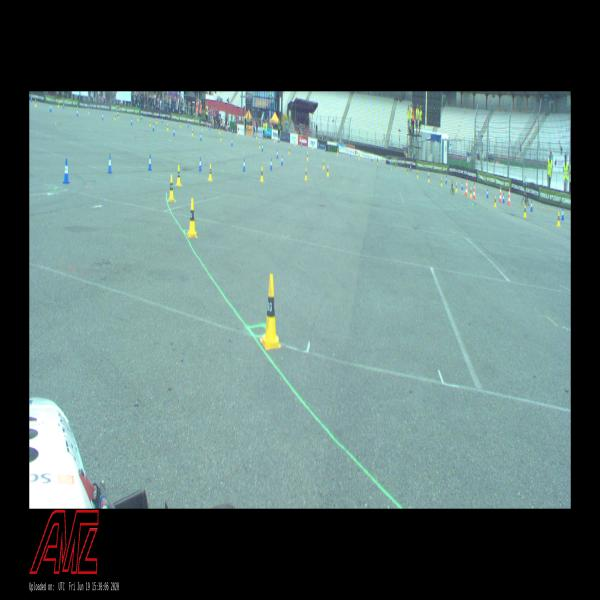blue_cone: (64, 159, 70, 184), (108, 154, 112, 174), (148, 154, 152, 171), (199, 156, 202, 172), (243, 158, 246, 171), (561, 207, 564, 220), (270, 158, 273, 170), (486, 188, 489, 199), (502, 193, 505, 204), (530, 201, 533, 211), (281, 155, 283, 166), (50, 103, 52, 112), (173, 127, 175, 136), (200, 132, 202, 141), (231, 137, 233, 146), (276, 150, 278, 158), (445, 176, 447, 184), (130, 117, 132, 125), (102, 112, 104, 120), (63, 101, 65, 109), (461, 182, 463, 190), (30, 97, 32, 102), (262, 143, 263, 152), (153, 123, 154, 131), (77, 108, 78, 116), (188, 120, 189, 128), (350, 150, 351, 158), (428, 170, 429, 178), (141, 113, 142, 120), (410, 164, 411, 171), (209, 124, 210, 130), (162, 117, 163, 123), (232, 128, 233, 134), (301, 142, 302, 148), (371, 155, 372, 161), (117, 111, 118, 115)
large_orange_cone: (507, 188, 511, 205), (499, 186, 502, 203), (473, 182, 476, 199), (465, 180, 468, 196)
yellow_cone: (261, 274, 281, 348), (188, 197, 198, 238), (168, 174, 174, 202), (176, 165, 182, 187), (208, 163, 213, 181), (260, 166, 264, 182), (556, 211, 560, 227), (523, 203, 527, 218), (326, 164, 329, 177), (322, 159, 325, 170), (469, 187, 472, 198), (494, 195, 496, 207), (305, 168, 307, 180), (455, 182, 457, 193), (440, 178, 442, 186), (220, 133, 222, 141), (167, 123, 169, 131), (358, 152, 360, 160), (35, 99, 37, 106), (114, 113, 116, 120), (156, 117, 158, 124), (88, 107, 90, 114), (201, 125, 203, 131), (180, 122, 182, 128), (395, 164, 397, 170), (118, 113, 120, 119), (294, 140, 296, 146), (307, 151, 308, 161), (428, 172, 429, 182), (289, 146, 290, 155), (417, 170, 418, 179), (192, 128, 193, 136), (407, 167, 408, 175), (377, 157, 378, 165), (58, 101, 59, 108), (259, 142, 260, 148), (150, 120, 151, 126), (337, 148, 338, 154), (274, 137, 275, 143), (237, 130, 238, 136), (138, 115, 139, 121), (312, 144, 313, 150), (219, 128, 220, 133), (256, 134, 257, 139)
